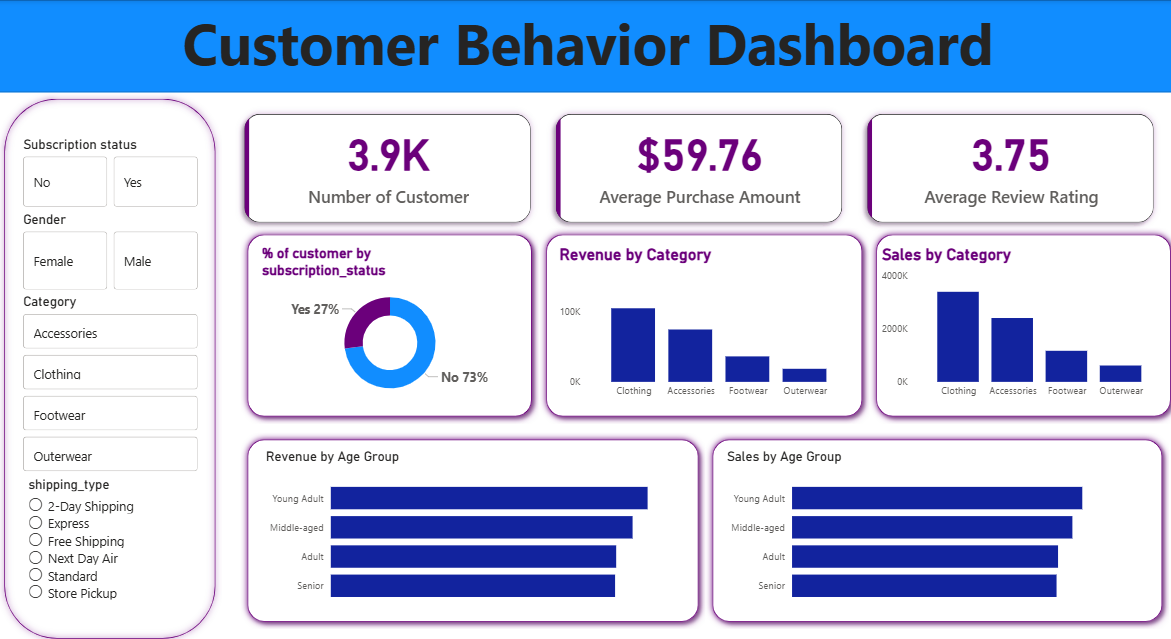

What the dashboard file says about the page in this screenshot:
{"tool":"powerbi","page":{"name":"Sales Overview","canvas":[1500,820],"ordinal":0},"visuals":[{"type":"cardVisual","fields":{"Data":["cleaned_customer_data.Number of Customer","cleaned_customer_data.Average Purchase Amount","cleaned_customer_data.Average Review Rating"]},"box":[284.6,115.8,1215.7,196.2],"z":0},{"type":"shape","box":[0,0,1500.3,117.4],"z":1000},{"type":"textbox","box":[0,0,1500.3,117.4],"z":2000},{"type":"shape","box":[308.7,289.5,379.5,249.3],"z":3000},{"type":"donutChart","title":"% of customer by subscription_status","fields":{"Category":["cleaned_customer_data.subscription_status"],"Y":["CountNonNull(cleaned_customer_data.customer_id)"]},"box":[331.3,312,336.1,204.2],"z":4000},{"type":"shape","box":[688.3,289.5,419.7,249.3],"z":5000},{"type":"shape","box":[1108,289.5,392.4,249.3],"z":6000},{"type":"clusteredColumnChart","title":"Revenue by Category","fields":{"Y":["Sum(cleaned_customer_data.purchase_amount)"],"Category":["cleaned_customer_data.category"]},"box":[709.2,312,381.1,204.2],"z":7000},{"type":"clusteredColumnChart","title":"Sales by Category","fields":{"Y":["Sum(cleaned_customer_data.customer_id)"],"Category":["cleaned_customer_data.category"]},"box":[1119.2,312,369.9,204.2],"z":8000},{"type":"shape","box":[0,117.6,284.5,702.5],"z":9000},{"type":"advancedSlicerVisual","title":"Subscription status","fields":{"Values":["cleaned_customer_data.subscription_status"]},"box":[27,173.2,232,95.4],"z":10000},{"type":"advancedSlicerVisual","title":"Gender","fields":{"Values":["cleaned_customer_data.gender"]},"box":[27,268.6,232,104.9],"z":11000},{"type":"advancedSlicerVisual","title":"Category","fields":{"Values":["cleaned_customer_data.category"]},"box":[27,373.5,232,232],"z":12000},{"type":"listSlicer","fields":{"Values":["cleaned_customer_data.shipping_type"]},"box":[33.4,605.5,225.7,166.9],"z":13000},{"type":"shape","box":[308.3,549.9,591.2,249.5],"z":13001},{"type":"clusteredBarChart","title":"Revenue by Age Group","fields":{"Category":["cleaned_customer_data.age_group"],"Y":["Sum(cleaned_customer_data.purchase_amount)"]},"box":[335.3,570.6,546.7,209.8],"z":13002},{"type":"shape","box":[899.6,549.9,589.6,249.5],"z":13003},{"type":"clusteredBarChart","title":"Sales by Age Group","fields":{"Category":["cleaned_customer_data.age_group"],"Y":["Sum(cleaned_customer_data.customer_id)"]},"box":[921.8,570.6,553.1,209.8],"z":13004}]}

Visuals, with their boxes in screenshot pixels (x1, y1, x2, y2), scaled from the page's 1500x820 canvas onto the 1171x639 screenshot:
cardVisual - cleaned_customer_data.Number of Customer x cleaned_customer_data.Average Purchase Amount: <region>222, 90, 1170, 243</region>
shape: <region>0, 0, 1170, 91</region>
textbox: <region>0, 0, 1170, 91</region>
shape: <region>241, 226, 537, 420</region>
"% of customer by subscription_status" donutChart: <region>259, 243, 521, 402</region>
shape: <region>537, 226, 865, 420</region>
shape: <region>865, 226, 1170, 420</region>
"Revenue by Category" clusteredColumnChart: <region>554, 243, 851, 402</region>
"Sales by Category" clusteredColumnChart: <region>874, 243, 1162, 402</region>
shape: <region>0, 92, 222, 638</region>
"Subscription status" advancedSlicerVisual: <region>21, 135, 202, 209</region>
"Gender" advancedSlicerVisual: <region>21, 209, 202, 291</region>
"Category" advancedSlicerVisual: <region>21, 291, 202, 472</region>
listSlicer - cleaned_customer_data.shipping_type: <region>26, 472, 202, 602</region>
shape: <region>241, 429, 702, 623</region>
"Revenue by Age Group" clusteredBarChart: <region>262, 445, 689, 608</region>
shape: <region>702, 429, 1163, 623</region>
"Sales by Age Group" clusteredBarChart: <region>720, 445, 1151, 608</region>
